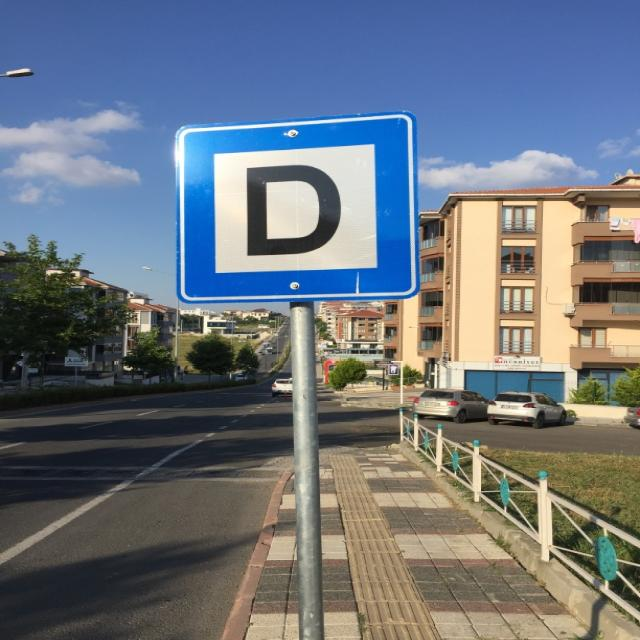durak: (170, 109, 422, 300)
